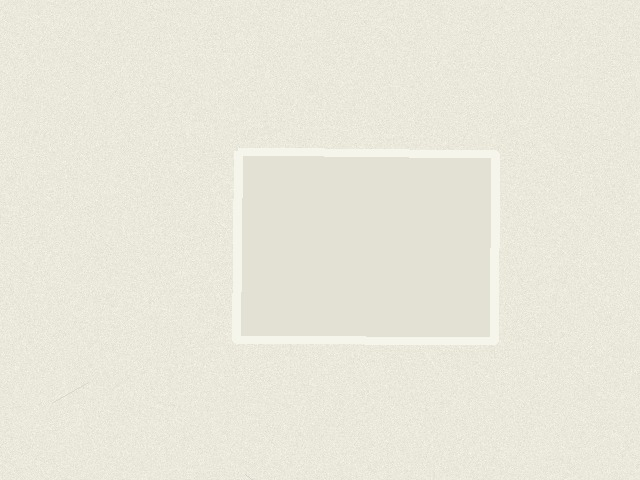parking_area: (236, 151, 495, 341)
